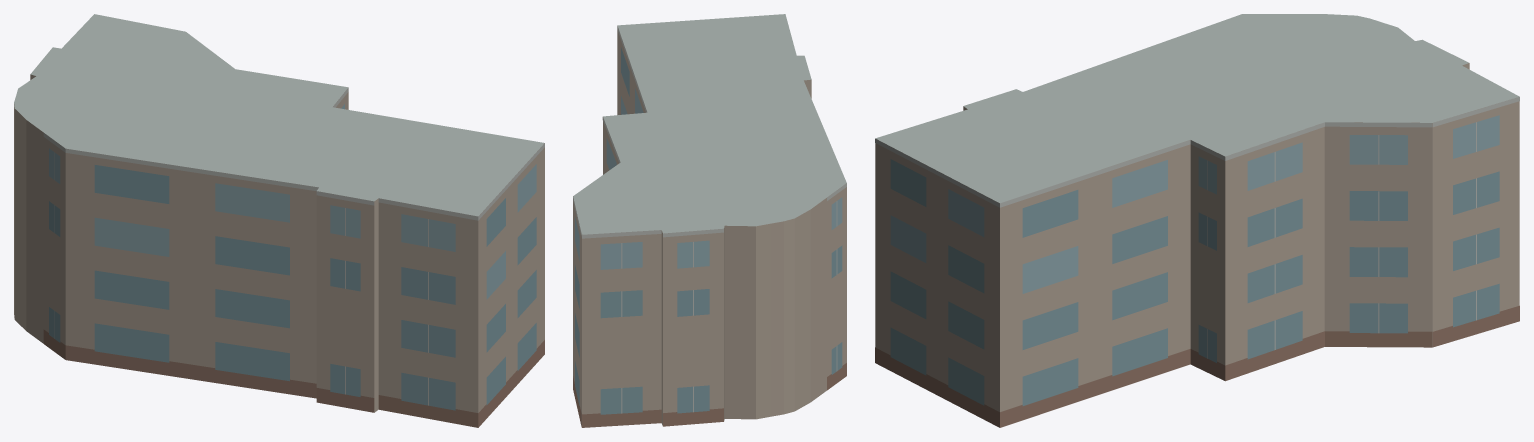
File: survey-upis-32651592.glb
3 views of the same model, side by side, from view 1: azimuth 30°, elevation 25°; view 2: azimuth 150°, elevation 25°; view 3: azimuth 270°, elevation 25° (orthographic). The views are drawn at different scales.
Visible parts, largest first — view 1: survey-upis-32651592.tmp; view 2: survey-upis-32651592.tmp; view 3: survey-upis-32651592.tmp.
Boxes of the visible parts, <box> form: survey-upis-32651592.tmp: <box>14,14,544,427</box>; survey-upis-32651592.tmp: <box>573,14,846,427</box>; survey-upis-32651592.tmp: <box>875,14,1519,427</box>.
Bounding box in the file's own units: 22.07 × 12.2 × 31.75.
